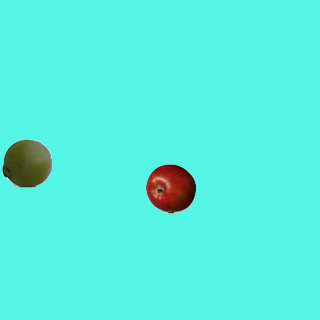Apple Braeburn: (145, 163, 195, 213)
Grape White 4: (1, 137, 51, 187)
